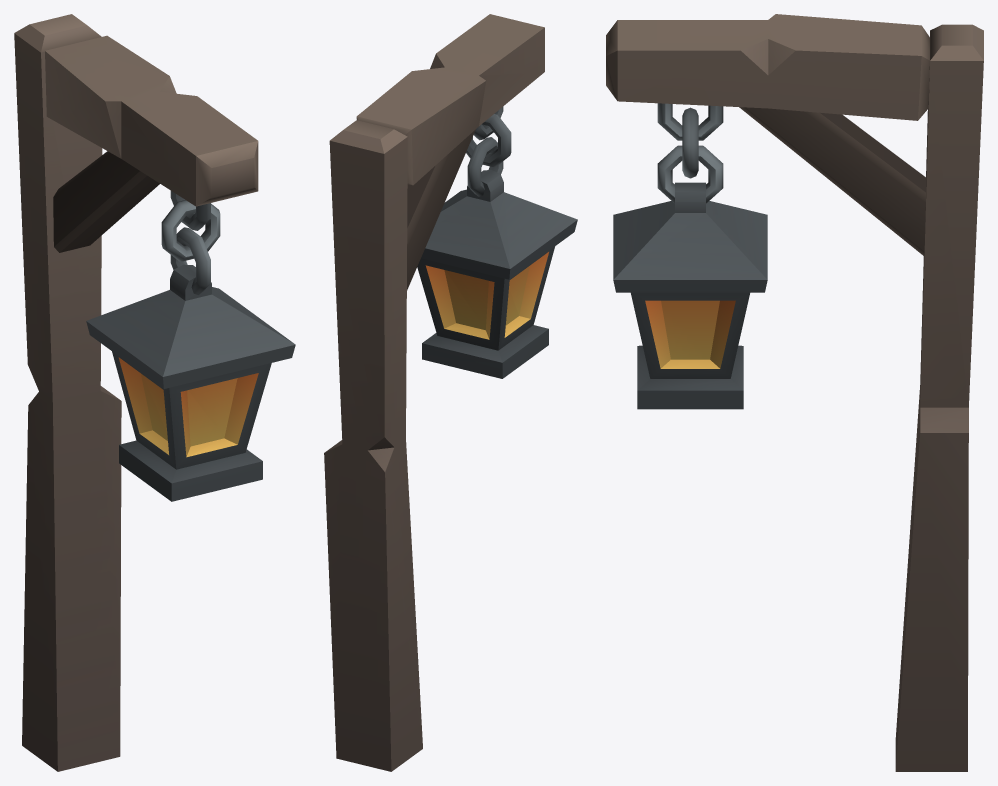
Rendered from postLantern.glb.
3 renders of one model, left to right at view 1: azimuth 30°, elevation 25°; view 2: azimuth 150°, elevation 25°; view 3: azimuth 270°, elevation 25°, orthographic. The views are drawn at different scales.
Visible parts, largest first — view 1: Cube.124, post_lantern_lantern; view 2: Cube.124, post_lantern_lantern; view 3: Cube.124, post_lantern_lantern.
Part boxes in pixels (x1,y1,x2,y2): Cube.124: [14, 14, 258, 771]; post_lantern_lantern: [86, 191, 295, 501]; Cube.124: [324, 14, 544, 771]; post_lantern_lantern: [417, 106, 577, 378]; Cube.124: [606, 14, 983, 771]; post_lantern_lantern: [613, 103, 767, 409].
Bounding box in the file's own units: 0.64 × 3.3 × 1.57.
1 material, 1 textured.
